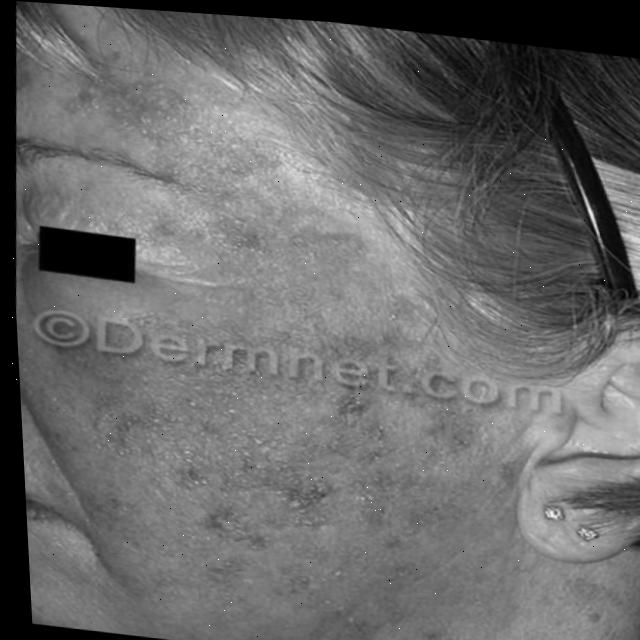Eczema: (47, 32, 519, 571)
